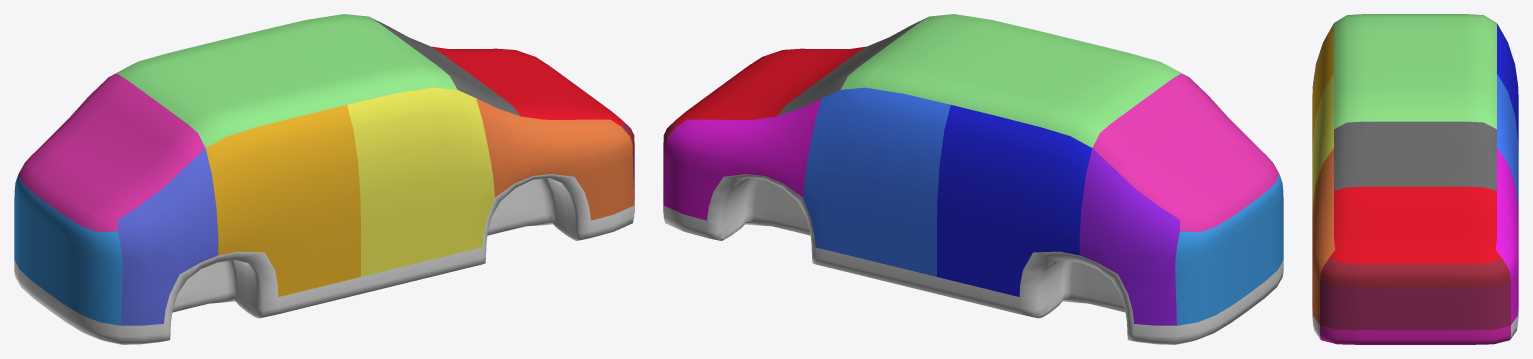
File: car.glb
The picture shows the model from 3 angles, left to right: view 1: azimuth 30°, elevation 25°; view 2: azimuth 150°, elevation 25°; view 3: azimuth 270°, elevation 25°; orthographic projection. The views are drawn at different scales.
Parts seen in each view (by area): view 1: Car; view 2: Car; view 3: Car.
Part boxes in pixels (x1=…): Car: x1=14, y1=14, x2=634, y2=344; Car: x1=663, y1=14, x2=1283, y2=344; Car: x1=1312, y1=14, x2=1518, y2=344.
Size of the model in its own units: 5.33 by 1.84 by 2.09.
